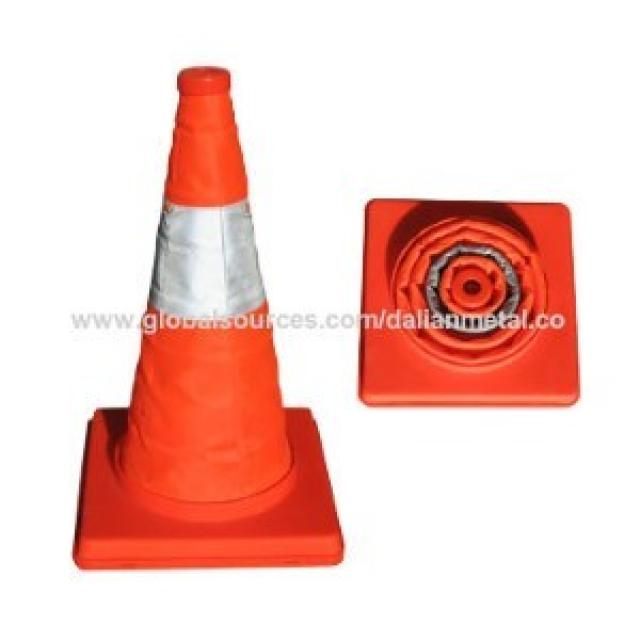Traffic Cone: (70, 64, 344, 565)
